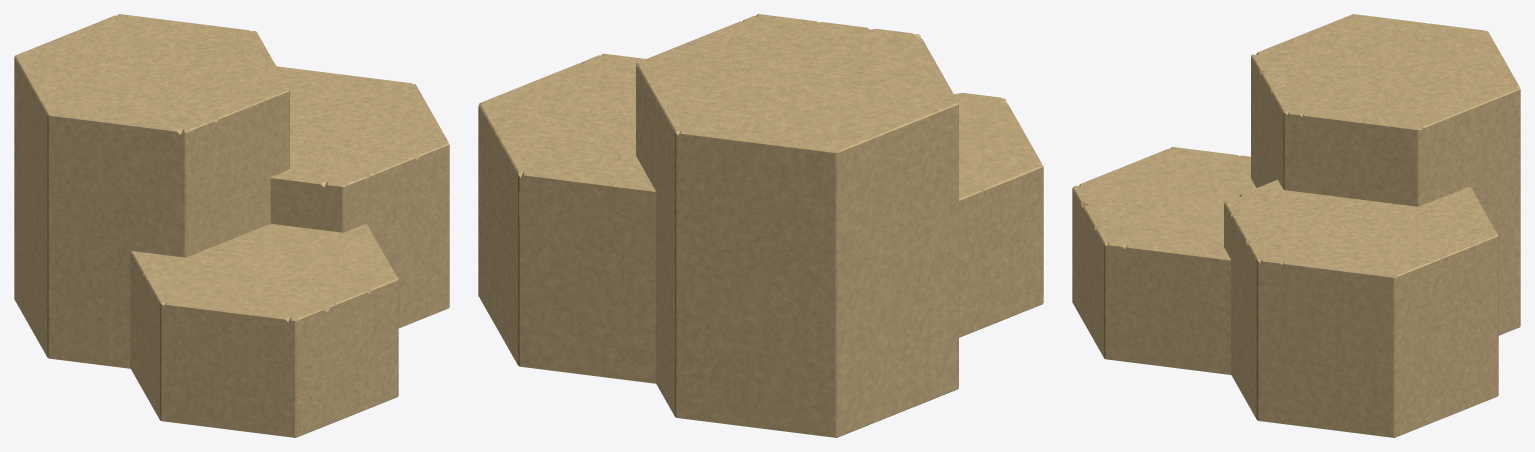
Rendered from OrirockConcentration_PerRockChips.fbx.
The picture shows the model from 3 angles, left to right: view 1: azimuth 30°, elevation 25°; view 2: azimuth 150°, elevation 25°; view 3: azimuth 270°, elevation 25°; orthographic projection. The views are drawn at different scales.
Visible parts, largest first — view 1: 提纯源岩_左后_宽顶短壁, 提纯源岩_前方_宽扁断块, 提纯源岩_右后_斜切与下阶; view 2: 提纯源岩_左后_宽顶短壁, 提纯源岩_右后_斜切与下阶, 提纯源岩_前方_宽扁断块; view 3: 提纯源岩_右后_斜切与下阶, 提纯源岩_左后_宽顶短壁, 提纯源岩_前方_宽扁断块.
Boxes of the visible parts, x1=… form: 提纯源岩_左后_宽顶短壁: x1=14, y1=14, x2=289, y2=368; 提纯源岩_前方_宽扁断块: x1=130, y1=223, x2=398, y2=437; 提纯源岩_右后_斜切与下阶: x1=270, y1=66, x2=449, y2=328; 提纯源岩_左后_宽顶短壁: x1=636, y1=14, x2=958, y2=437; 提纯源岩_右后_斜切与下阶: x1=478, y1=53, x2=655, y2=383; 提纯源岩_前方_宽扁断块: x1=954, y1=92, x2=1043, y2=337; 提纯源岩_右后_斜切与下阶: x1=1224, y1=179, x2=1498, y2=437; 提纯源岩_左后_宽顶短壁: x1=1251, y1=14, x2=1520, y2=335; 提纯源岩_前方_宽扁断块: x1=1072, y1=147, x2=1256, y2=374.
Bounding box in the file's own units: 162 × 97.18 × 165.
